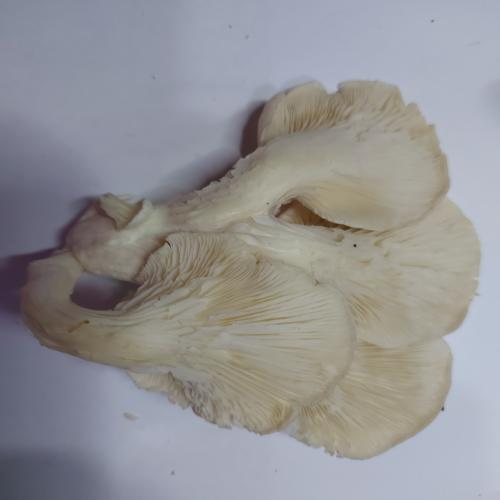Oyster Mushroom: (19, 78, 482, 460)
